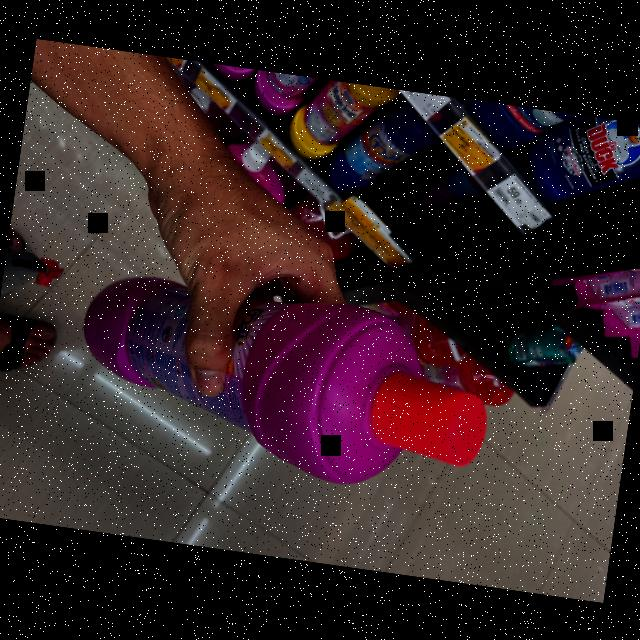chemical_plastic_bottle: (68, 258, 509, 500)
